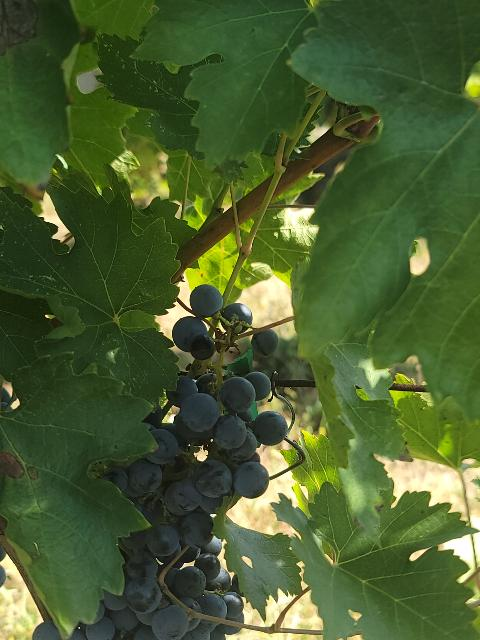grapes: (104, 285, 289, 561), (68, 555, 244, 640)
